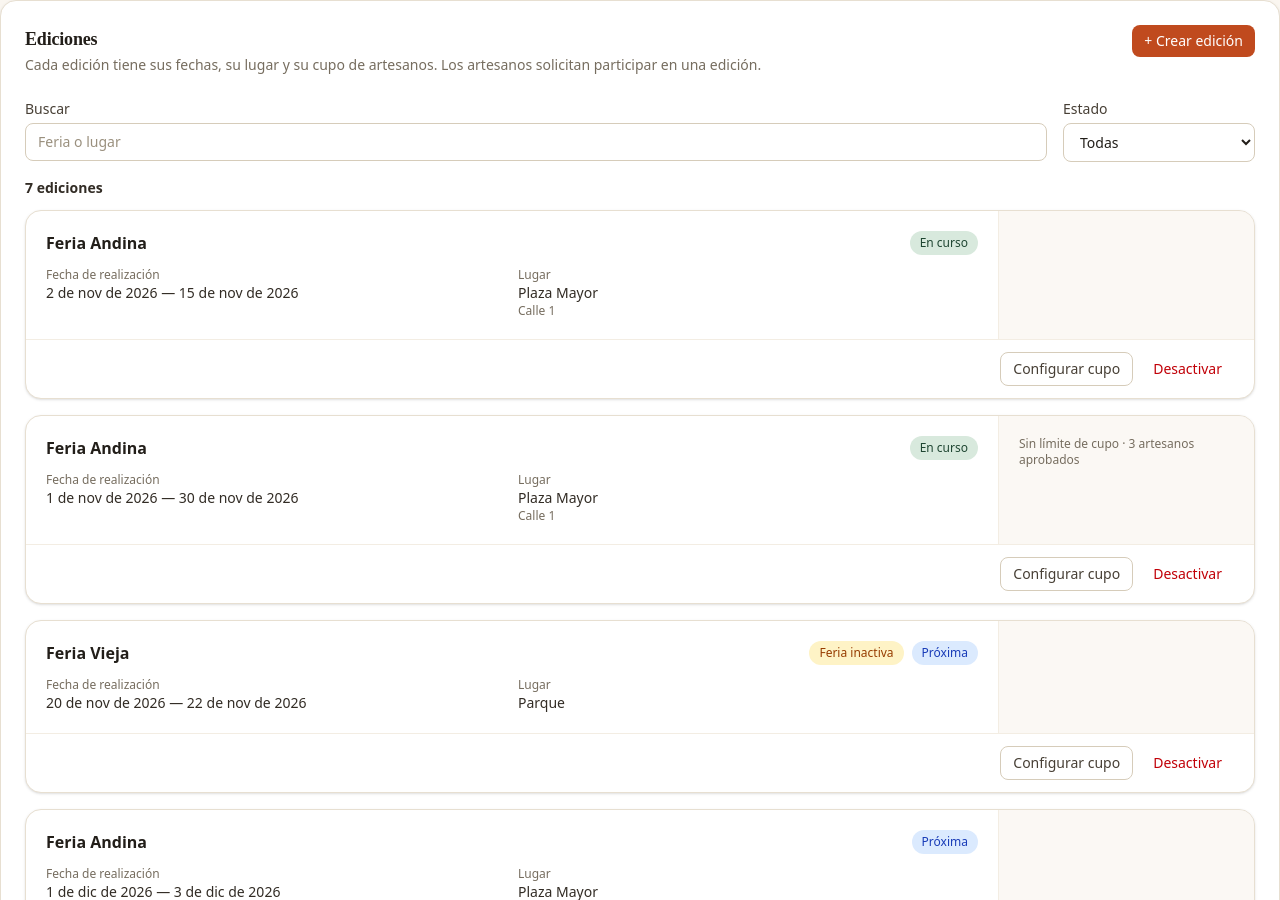
it: GestionEdiciones: búsqueda y filtro › sin coincidencias lo explica
Type "zzz" into the search field labelled "Buscar" at (536, 142), box [25,123,1047,161]
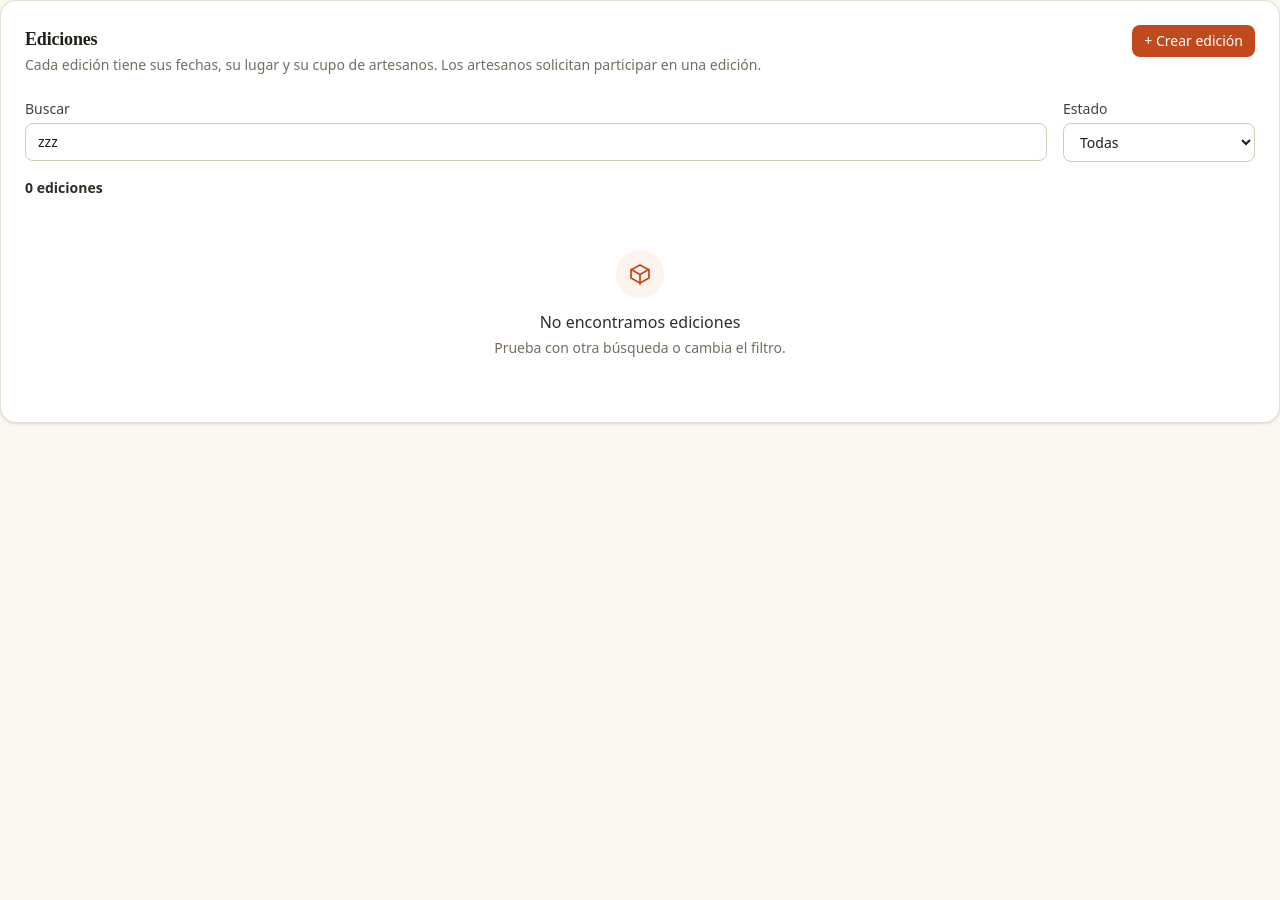
Result: the text "No encontramos ediciones" is shown at [540,310,740,334]
